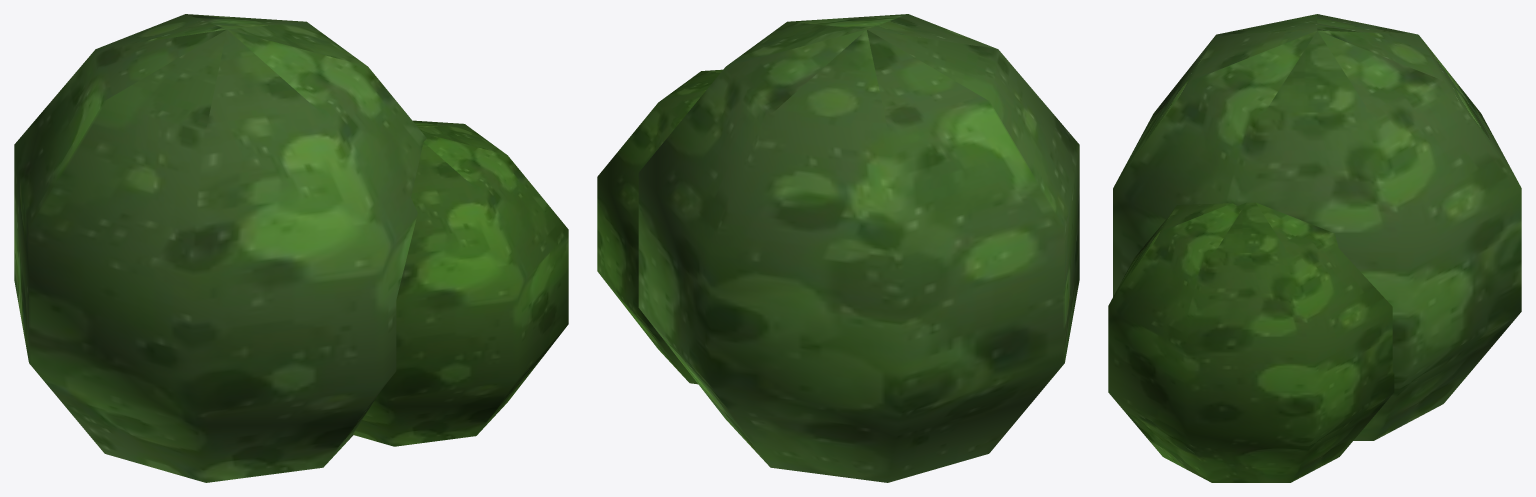
The model's file is arbusto.glb.
The picture shows the model from 3 angles, left to right: view 1: azimuth 30°, elevation 25°; view 2: azimuth 150°, elevation 25°; view 3: azimuth 270°, elevation 25°; orthographic projection. The views are drawn at different scales.
Size of the model in its own units: 3.48 by 3.09 by 2.9.
2 materials, 2 textured.
